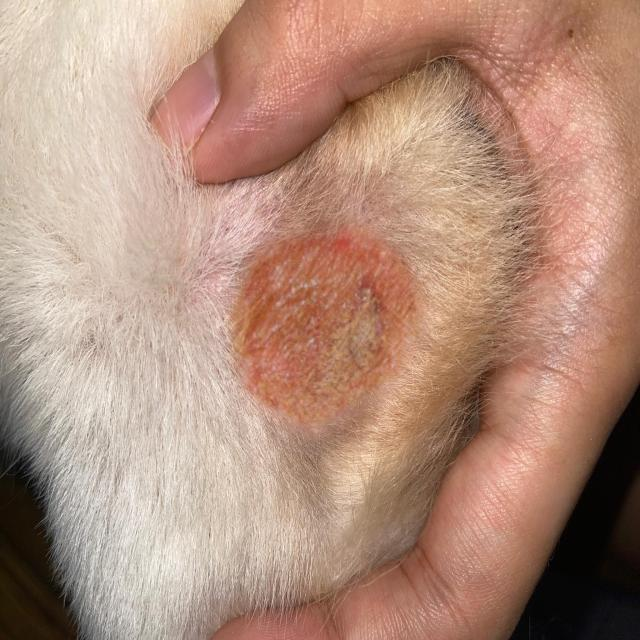ringworm: (209, 206, 439, 448)
